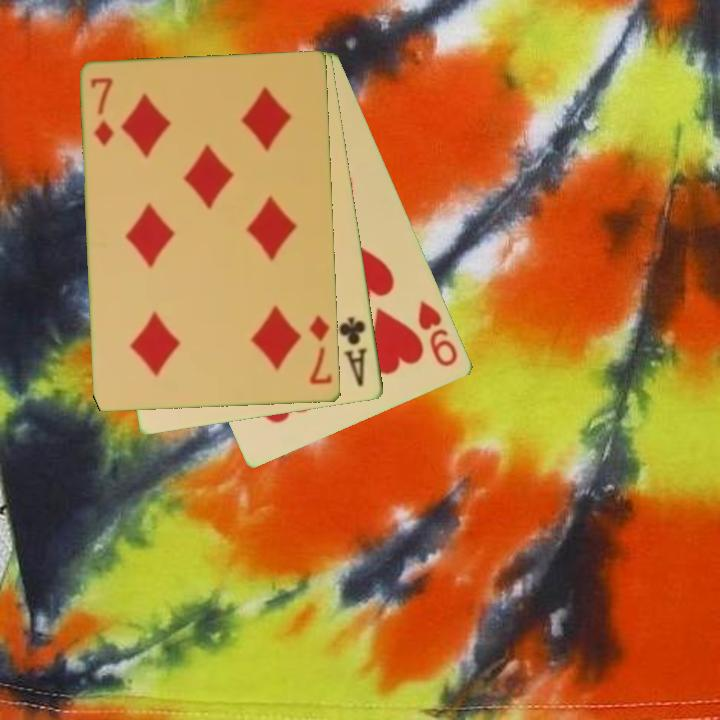7d: (306, 312, 336, 388), (88, 74, 117, 149)
9h: (415, 297, 461, 370)
Ac: (336, 313, 371, 390)
